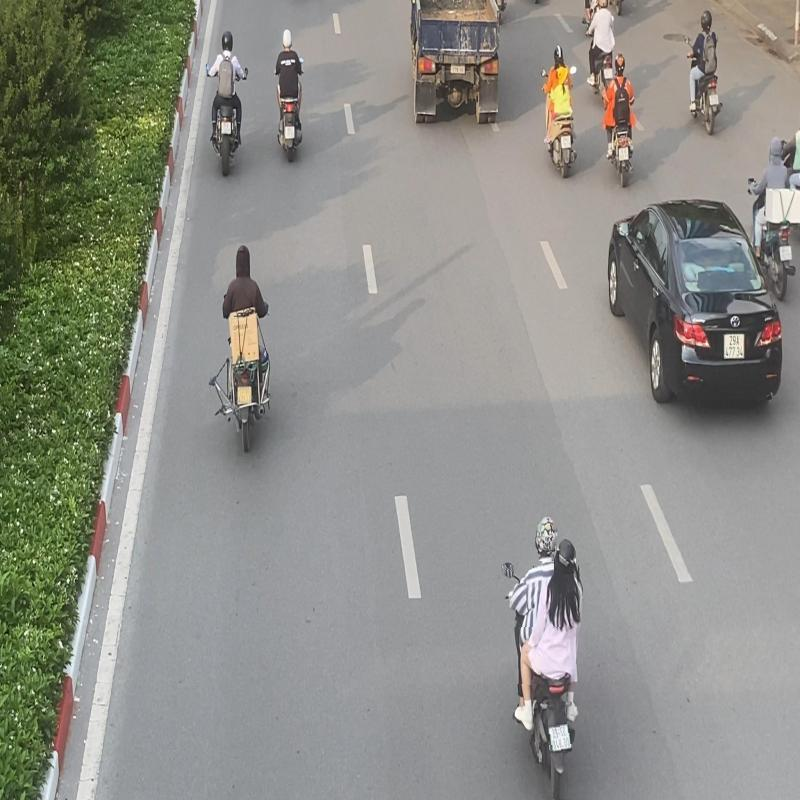helmet: (535, 514, 557, 562), (554, 536, 578, 571)
licenseplate: (548, 724, 572, 753)
motorcyclist: (500, 512, 586, 800)
